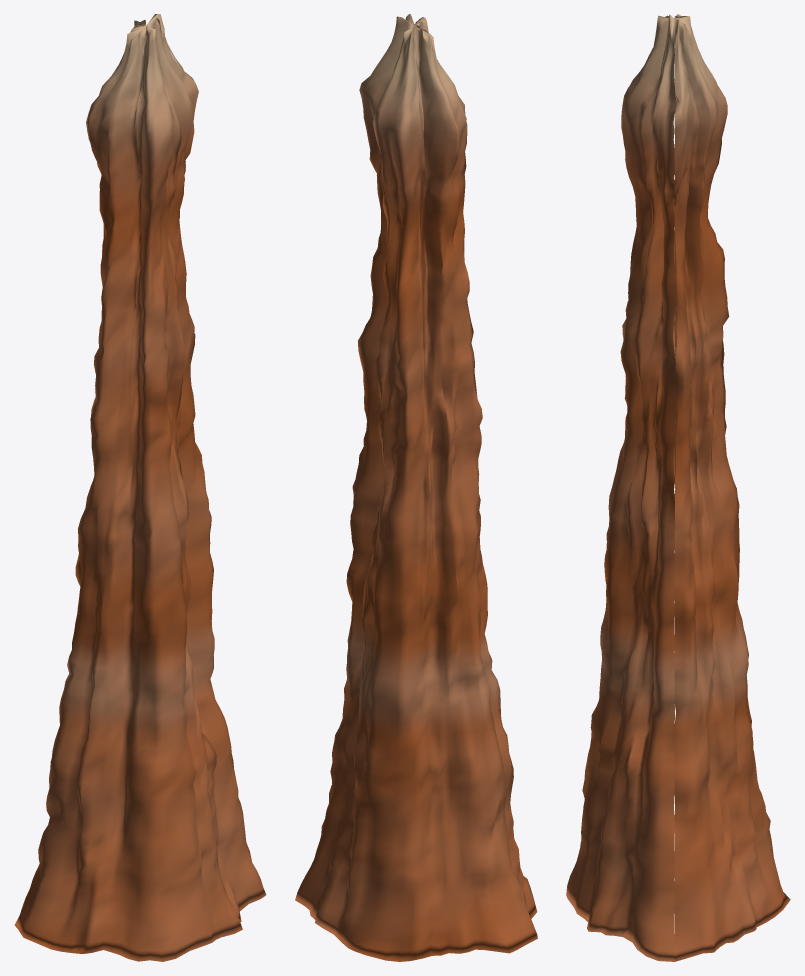
The model's file is hoodoo-needle.glb.
3 renders of one model, left to right at view 1: azimuth 30°, elevation 25°; view 2: azimuth 150°, elevation 25°; view 3: azimuth 270°, elevation 25°, orthographic.
Visible parts, largest first — view 1: hoodoo-needle; view 2: hoodoo-needle; view 3: hoodoo-needle.
Boxes of the visible parts, x1,y1,x2,y2 form: hoodoo-needle: [14, 14, 266, 961]; hoodoo-needle: [295, 14, 537, 961]; hoodoo-needle: [566, 14, 790, 961].
Size of the model in its own units: 7.65 by 28.36 by 6.42.
